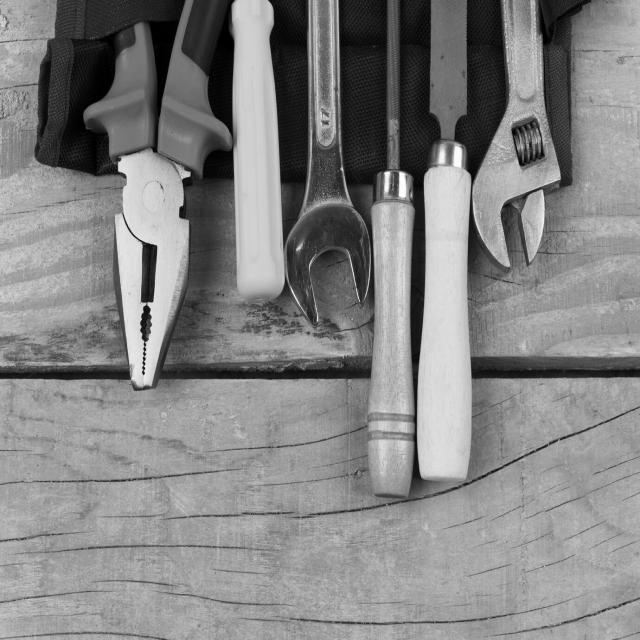file: (418, 0, 483, 489), (368, 0, 421, 514)
pliers: (61, 2, 241, 418)
screwdriver: (230, 0, 290, 320)
wrench: (465, 0, 575, 292), (280, 0, 375, 337)
